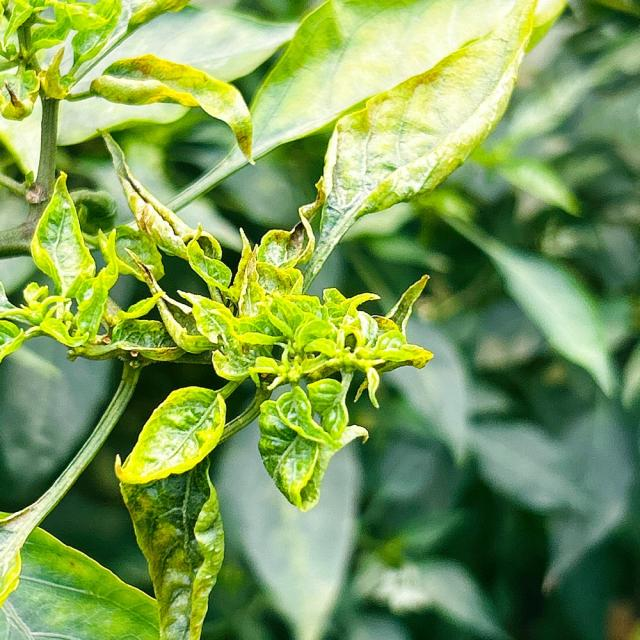Chilli_Leaf_Curl: (0, 0, 569, 637), (113, 214, 434, 512), (283, 0, 566, 293), (114, 384, 226, 638), (89, 52, 255, 166), (256, 376, 369, 512), (115, 384, 227, 485), (28, 170, 97, 300)
